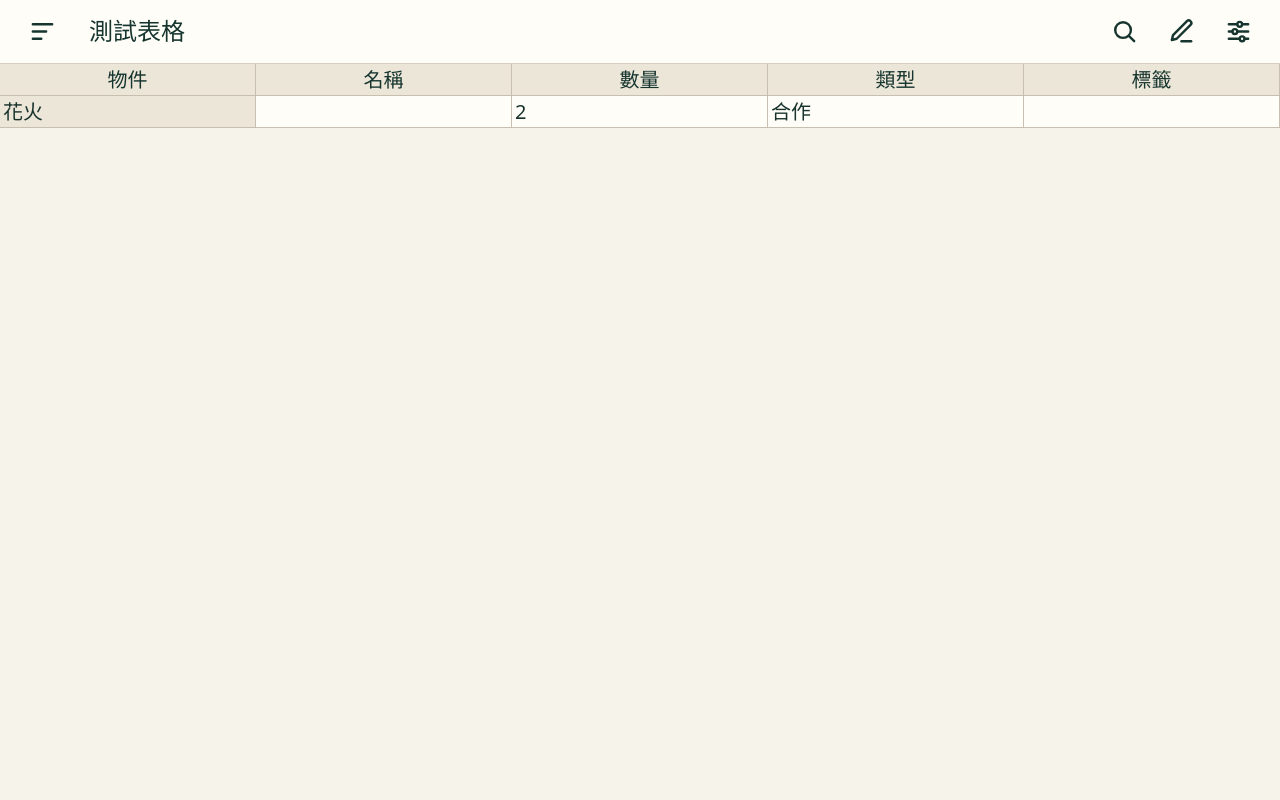
Test: WorkspacePage.columns › keeps item names and the item axis separate from attribute columns
Click the button with aria-label "編輯物件 花火" at (128, 112), box top-left (3, 98), bottom-right (252, 125)
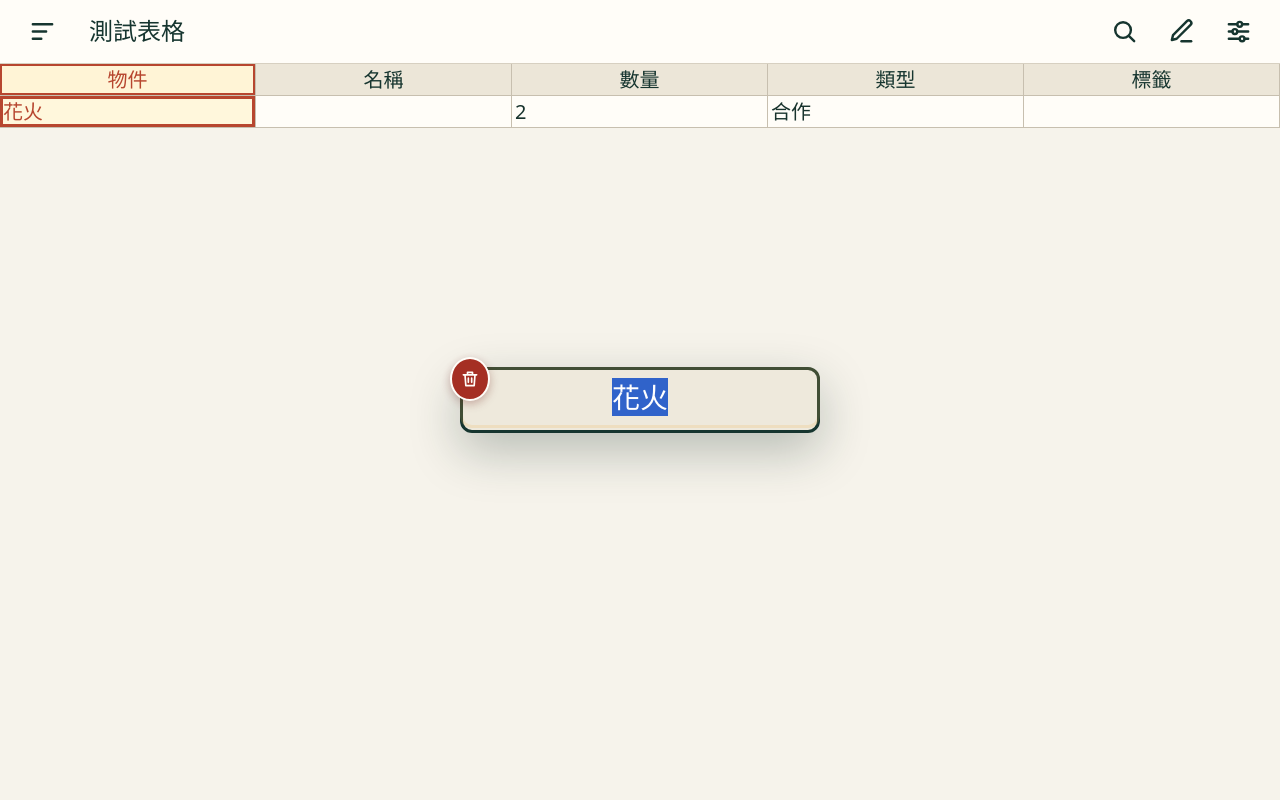
Replace the text in the text box named "物件名稱" with "收藏清單第一項" at (640, 398), box top-left (463, 370), bottom-right (817, 425)
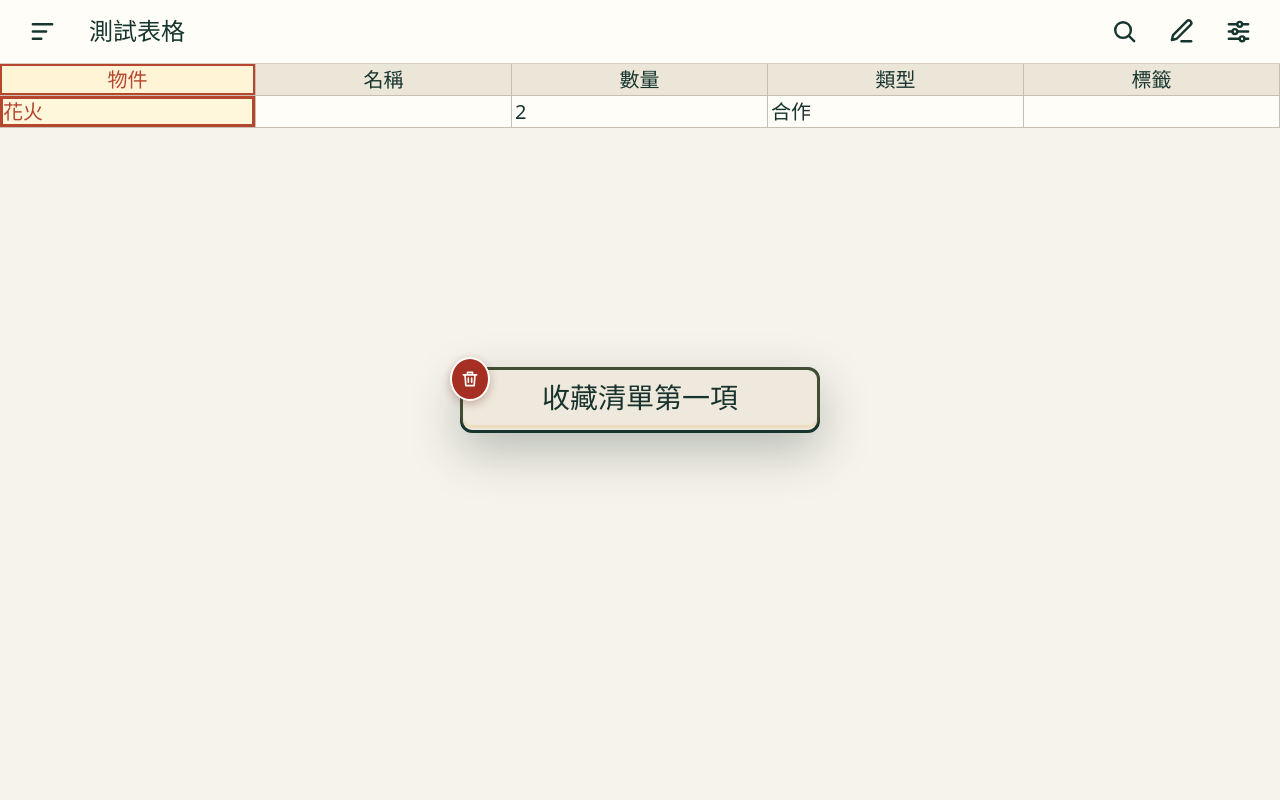
Click the element with class "workspace-value-dialog-overlay" at (640, 400), box top-left (460, 367), bottom-right (820, 433)
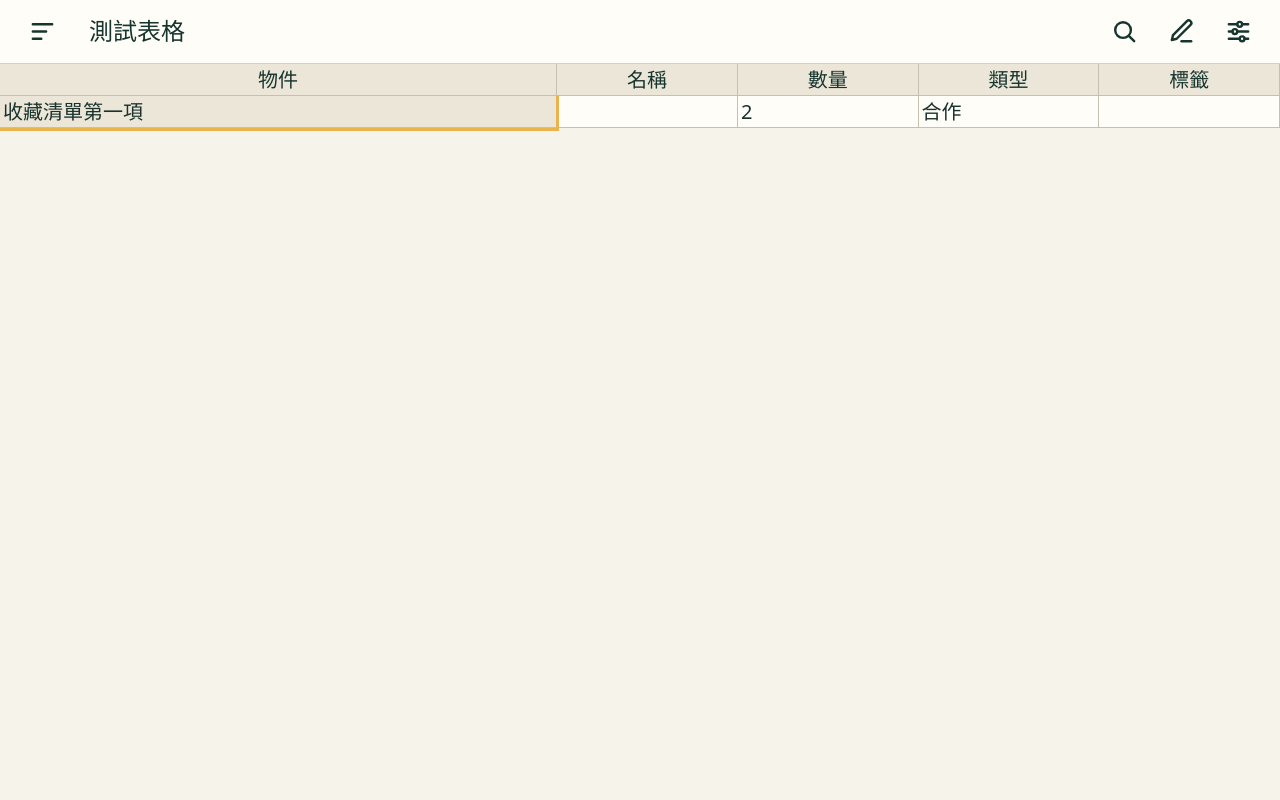
Expected: the button with aria-label "編輯物件 收藏清單第一項" is shown, top-left (3, 98), bottom-right (553, 125)
Click the column heading "物件" at (279, 80), box top-left (0, 64), bottom-right (557, 96)
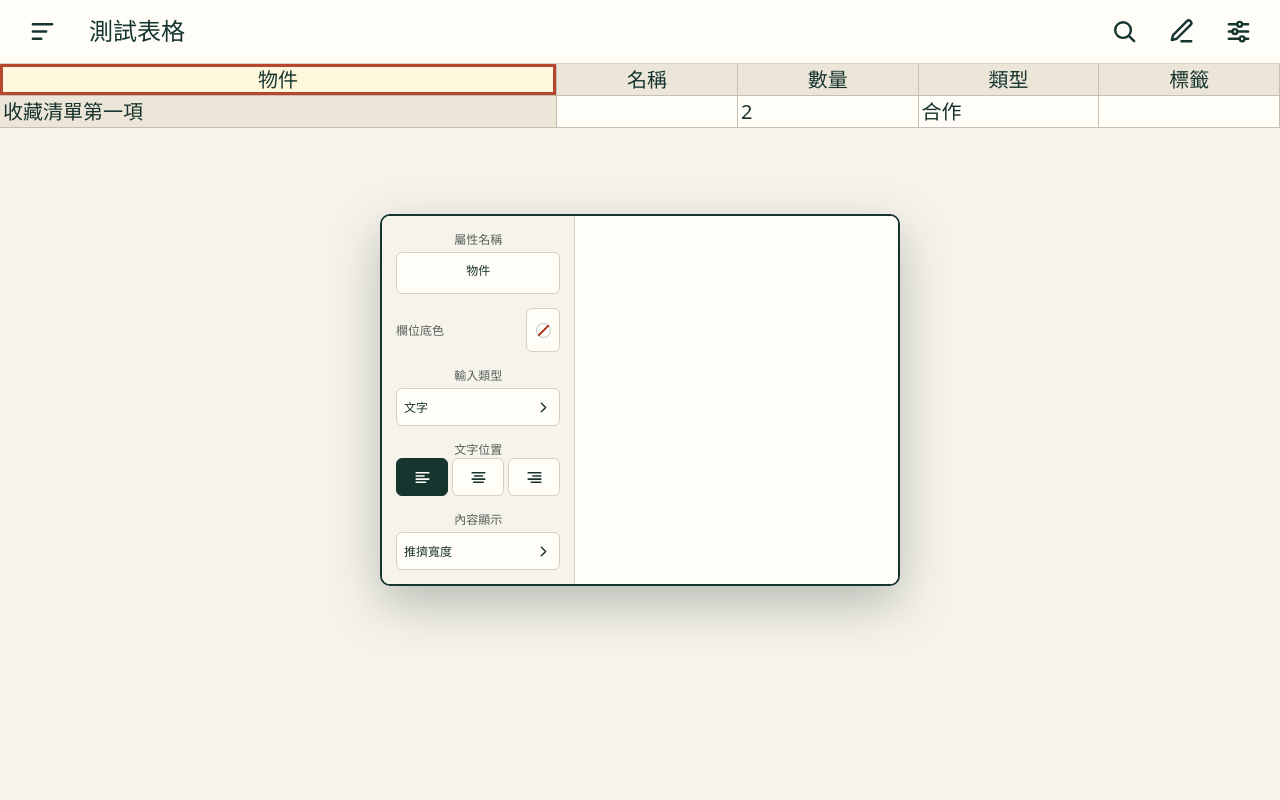
Replace the text in the text box labelled "屬性名稱" with "桌遊收藏" at (478, 273), box top-left (396, 252), bottom-right (560, 294)
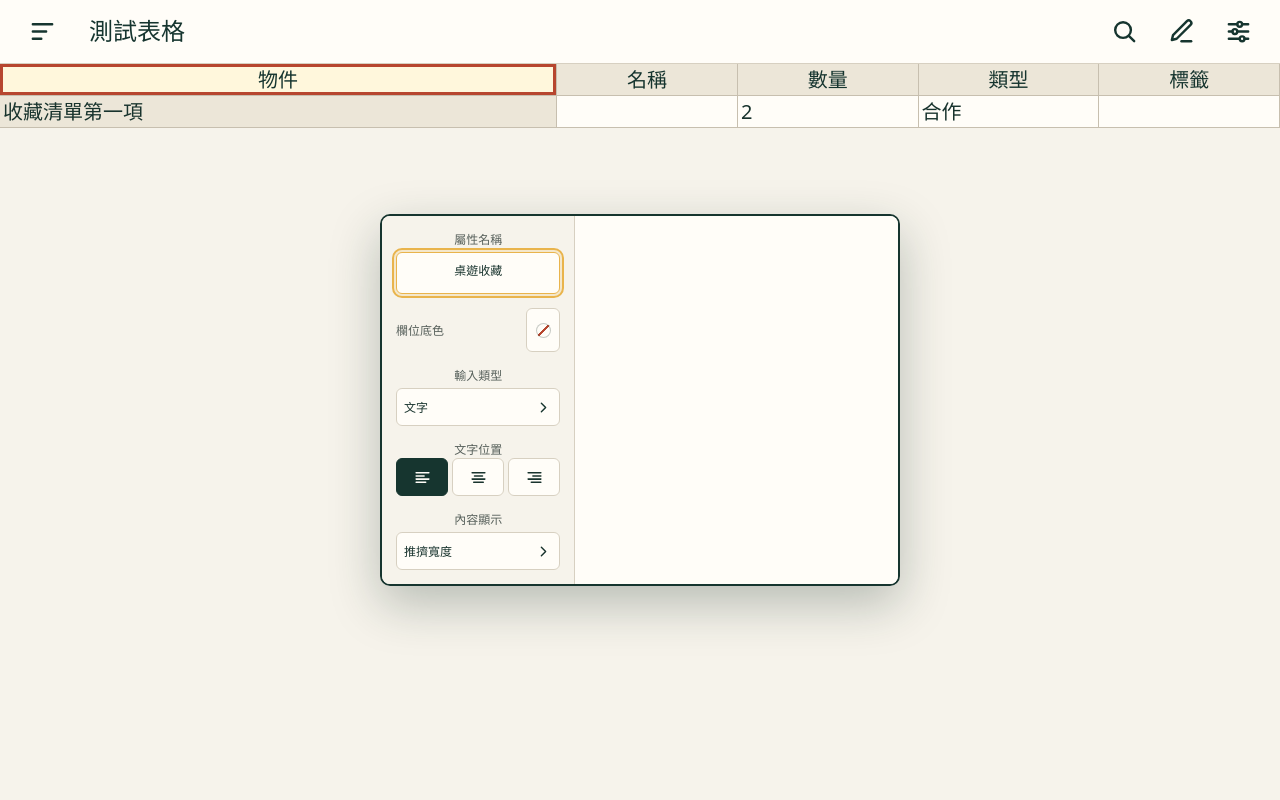
Click the element with class "workspace-column-dialog-overlay" at (640, 400), box top-left (380, 214), bottom-right (900, 586)
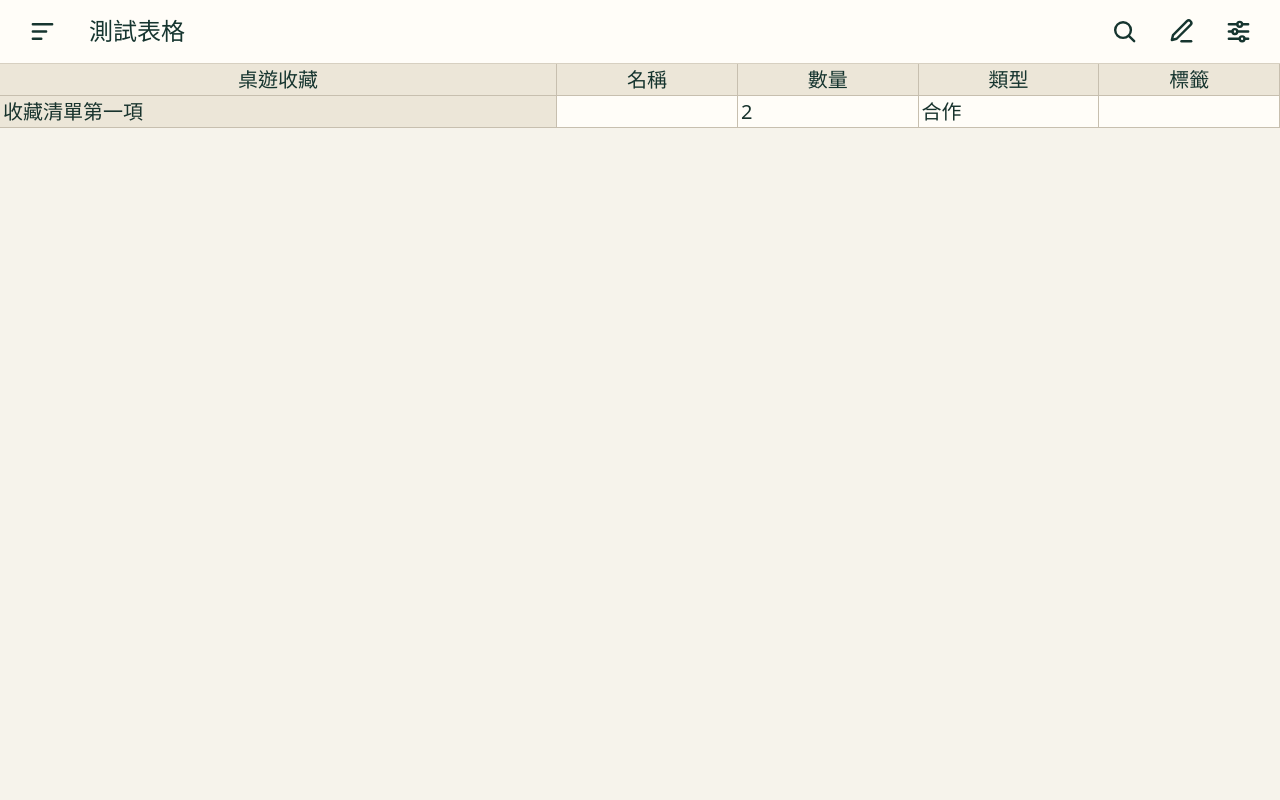
Expected: the element with class "workspace-column-dialog-overlay" is gone
Expected: the button "桌遊收藏" is shown, top-left (3, 66), bottom-right (553, 93)
